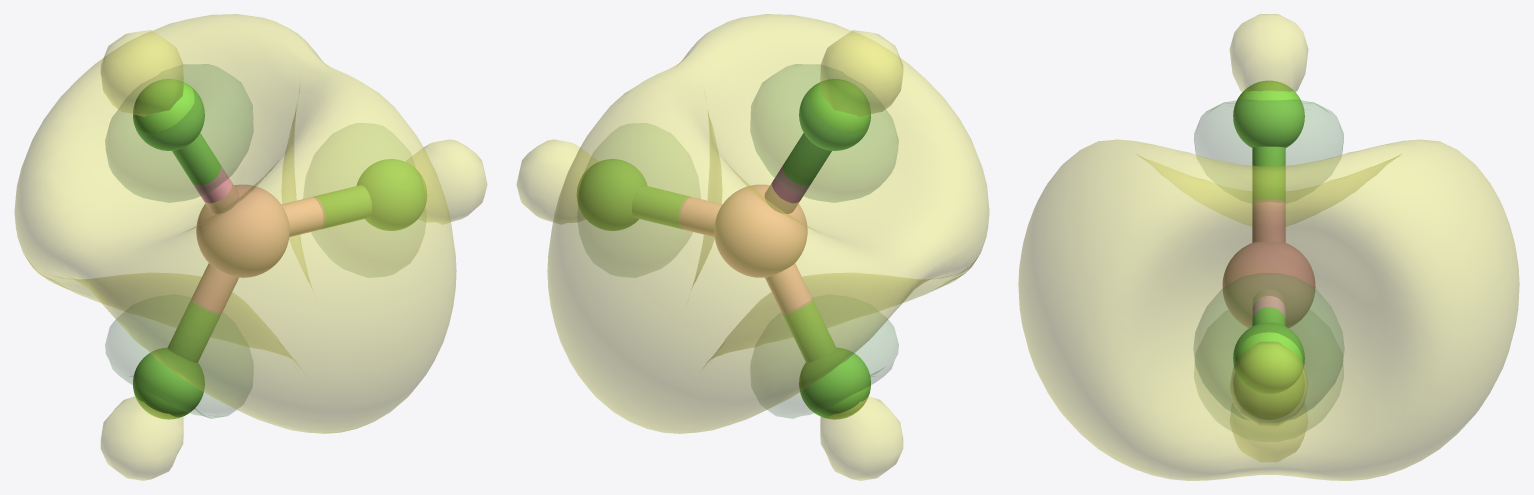
The picture shows the model from 3 angles, left to right: view 1: azimuth 30°, elevation 25°; view 2: azimuth 150°, elevation 25°; view 3: azimuth 270°, elevation 25°; orthographic projection.
Parts seen in each view (by area): view 1: surface, surface.001, atoms.001, atoms, bonds.001, bonds; view 2: surface, surface.001, atoms.001, atoms, bonds.001, bonds; view 3: surface, surface.001, atoms.001, atoms, bonds.001, bonds.
Boxes of the visible parts, x1,y1,x2,y2 form: surface: (14, 14, 487, 480); surface.001: (105, 64, 425, 418); atoms.001: (133, 79, 426, 419); atoms: (196, 184, 289, 277); bonds.001: (168, 133, 371, 362); bonds: (191, 165, 325, 314); surface: (516, 14, 989, 480); surface.001: (577, 64, 898, 418); atoms.001: (577, 79, 870, 419); atoms: (714, 184, 807, 277); bonds.001: (632, 133, 835, 362); bonds: (678, 165, 812, 314); surface: (1018, 14, 1519, 480); surface.001: (1193, 99, 1344, 441); atoms.001: (1233, 80, 1304, 394); atoms: (1222, 241, 1315, 327); bonds.001: (1252, 146, 1285, 326); bonds: (1252, 200, 1285, 319).
Size of the model in its own units: 4.18 by 4.33 by 4.47.
